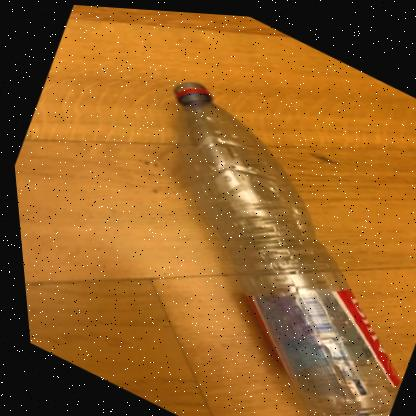Plastic: (174, 78, 395, 416)
